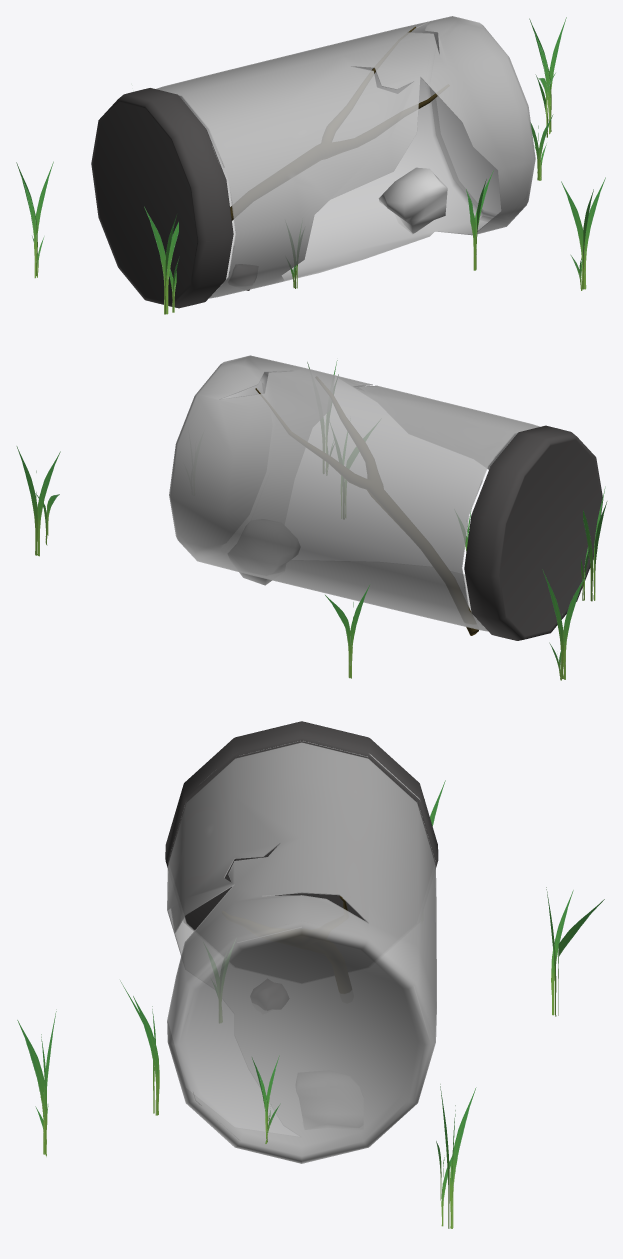
The model's file is arena7.fbx.
3 renders of one model, top to bottom at view 1: azimuth 30°, elevation 25°; view 2: azimuth 150°, elevation 25°; view 3: azimuth 270°, elevation 25°, orthographic. The views are drawn at different scales.
Visible parts, largest first — view 1: Jar, JarLid, grass2, stick, Rock, rock2; view 2: Jar, JarLid, grass2, stick, Rock; view 3: Jar, JarLid, grass2, Rock, stick, rock2.
Boxes of the visible parts, x1=… form: Jar: x1=156, y1=16, x2=535, y2=298; JarLid: x1=91, y1=88, x2=233, y2=308; grass2: x1=16, y1=17, x2=605, y2=314; stick: x1=230, y1=26, x2=448, y2=220; Rock: x1=378, y1=167, x2=447, y2=233; rock2: x1=228, y1=264, x2=257, y2=290; Jar: x1=169, y1=355, x2=540, y2=631; JarLid: x1=464, y1=425, x2=603, y2=640; grass2: x1=16, y1=360, x2=607, y2=680; stick: x1=255, y1=377, x2=478, y2=635; Rock: x1=228, y1=519, x2=299, y2=585; Jar: x1=167, y1=742, x2=436, y2=1163; JarLid: x1=165, y1=721, x2=438, y2=982; grass2: x1=17, y1=780, x2=604, y2=1228; Rock: x1=296, y1=1071, x2=362, y2=1129; stick: x1=222, y1=896, x2=351, y2=992; rock2: x1=251, y1=979, x2=288, y2=1009.
Bounding box in the file's own units: 15331 × 5196 × 11248.
